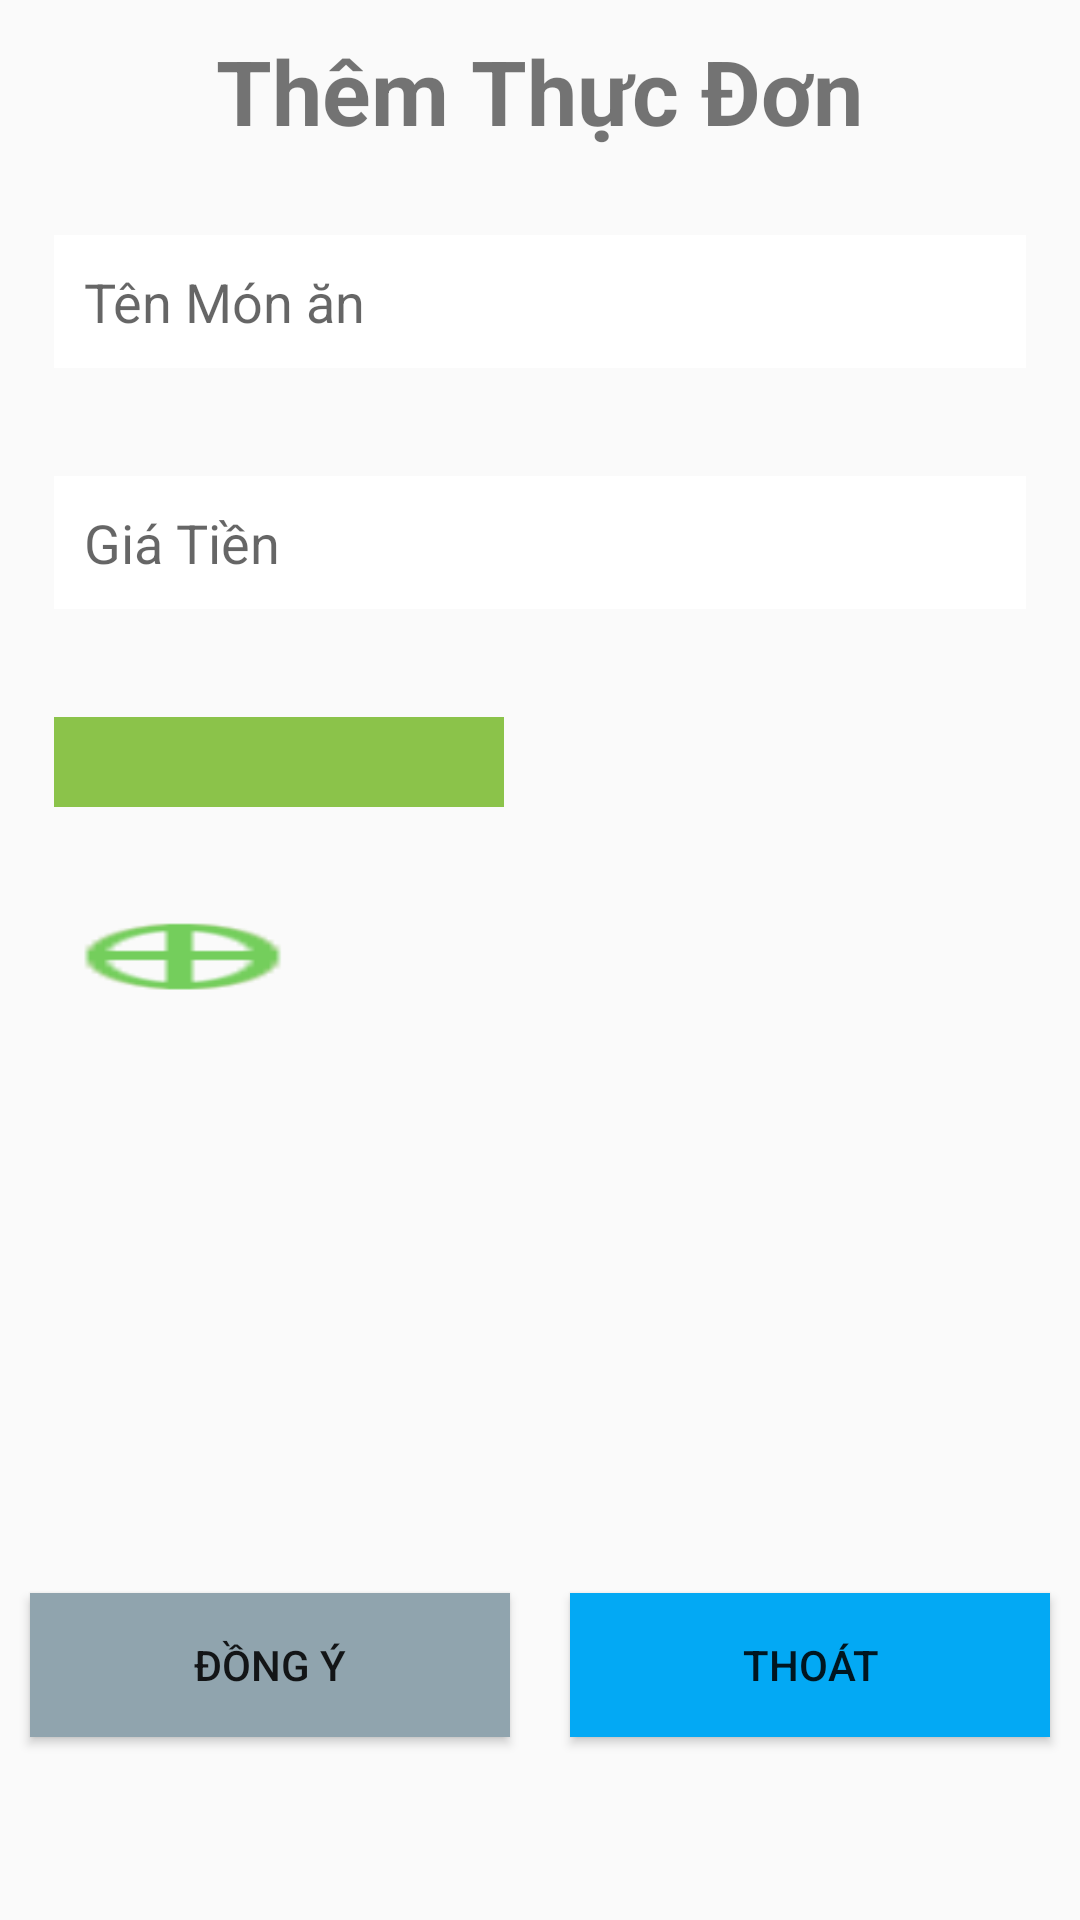

Icon bounding boxes for this 1080px×1920px phone screenshot, format (x1, y1, x2, y2):
addloaimonan: (85, 923, 281, 990)
